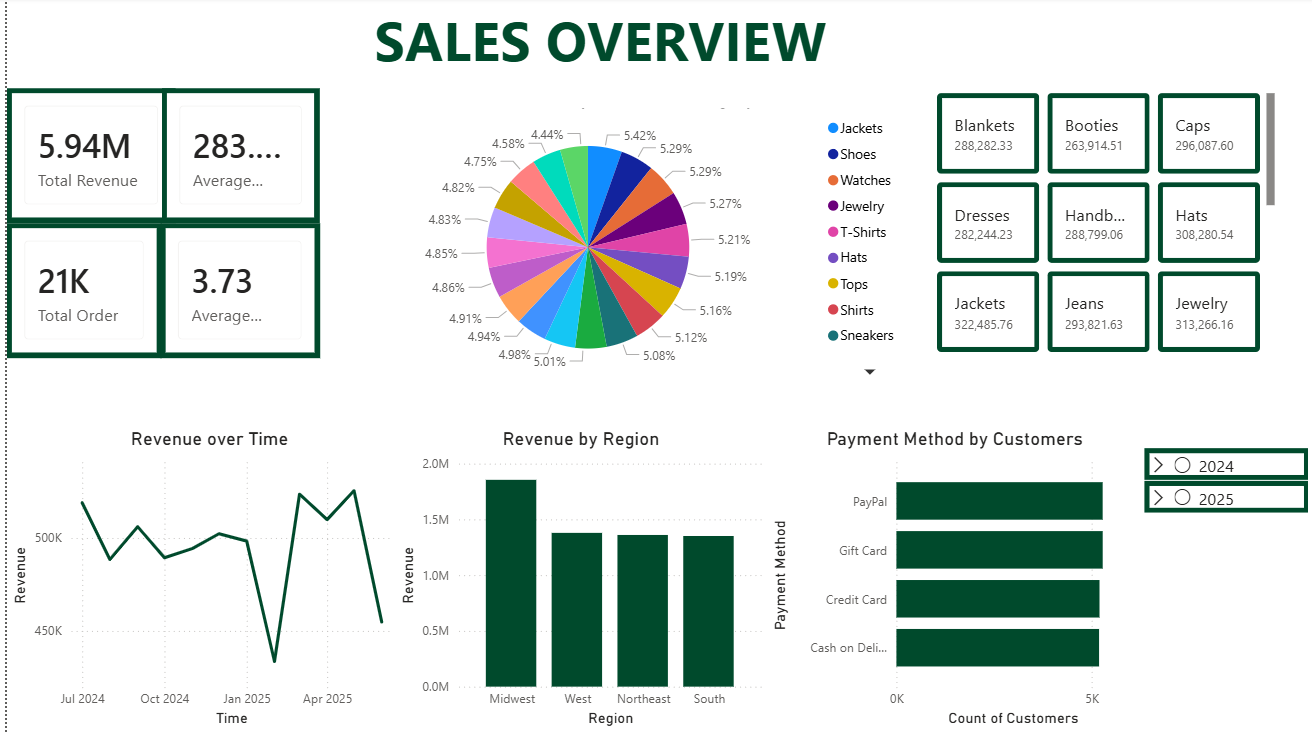

Layout of this report page (visuals, bound fields, positions):
{"tool":"powerbi","page":{"name":"Page 1","canvas":[1280,720],"ordinal":0},"visuals":[{"type":"cardVisual","fields":{"Data":["Fact_Table.Total Revenue"]},"box":[0,89.3,165,131.7],"z":0},{"type":"cardVisual","fields":{"Data":["Fact_Table.Total Order"]},"box":[0,221.1,151.4,131.7],"z":1000},{"type":"lineChart","title":"Revenue over Time","fields":{"Y":["Sum(Fact_Table.final_price)"],"Category":["Calendar.Date.Variation.Date Hierarchy.Year","Calendar.Date.Variation.Date Hierarchy.Month"]},"box":[0,422.5,396.7,296.8],"z":2000},{"type":"clusteredColumnChart","title":"Revenue by Region","fields":{"Y":["Sum(Fact_Table.final_price)"],"Category":["Fact_Table.region"]},"box":[378.6,422.5,364.9,296.8],"z":3000},{"type":"pieChart","title":"Revenue per Product Catagory","fields":{"Category":["Fact_Table.sub_category"],"Y":["Sum(Fact_Table.final_price)"]},"box":[330.1,89.3,558.7,290.7],"z":4000},{"type":"advancedSlicerVisual","fields":{"Values":["Fact_Table.sub_category"],"Label":["Sum(Fact_Table.final_price)"]},"box":[905.5,89.3,340.7,263.5],"z":5000},{"type":"listSlicer","fields":{"Values":["Calendar.Year","Calendar.Month Name"]},"box":[1108.4,436.1,171.1,271],"z":6000},{"type":"barChart","title":"Payment Method by Customers","fields":{"Category":["Fact_Table.payment_method"],"Y":["CountNonNull(Fact_Table.customer_id)"]},"box":[743.5,422.5,368,296.8],"z":7000},{"type":"cardVisual","fields":{"Data":["Fact_Table.Average Order Value"]},"box":[151.4,89.3,154.4,131.7],"z":8000},{"type":"cardVisual","fields":{"Data":["Fact_Table.Average Ratings"]},"box":[149.9,221.1,156,131.7],"z":9000},{"type":"textbox","box":[330.1,0,501.2,109],"z":10000}]}

Visuals, with their boxes in screenshot pixels (x1, y1, x2, y2), scaled from the page's 1280x720 canvas onto the 1312x732 screenshot:
cardVisual - Fact_Table.Total Revenue: [left=0, top=91, right=169, bottom=225]
cardVisual - Fact_Table.Total Order: [left=0, top=225, right=155, bottom=359]
"Revenue over Time" lineChart: [left=0, top=430, right=407, bottom=731]
"Revenue by Region" clusteredColumnChart: [left=388, top=430, right=762, bottom=731]
"Revenue per Product Catagory" pieChart: [left=338, top=91, right=911, bottom=386]
advancedSlicerVisual - Fact_Table.sub_category x Sum(Fact_Table.final_price): [left=928, top=91, right=1277, bottom=359]
listSlicer - Calendar.Year x Calendar.Month Name: [left=1136, top=443, right=1311, bottom=719]
"Payment Method by Customers" barChart: [left=762, top=430, right=1139, bottom=731]
cardVisual - Fact_Table.Average Order Value: [left=155, top=91, right=313, bottom=225]
cardVisual - Fact_Table.Average Ratings: [left=154, top=225, right=314, bottom=359]
textbox: [left=338, top=0, right=852, bottom=111]
